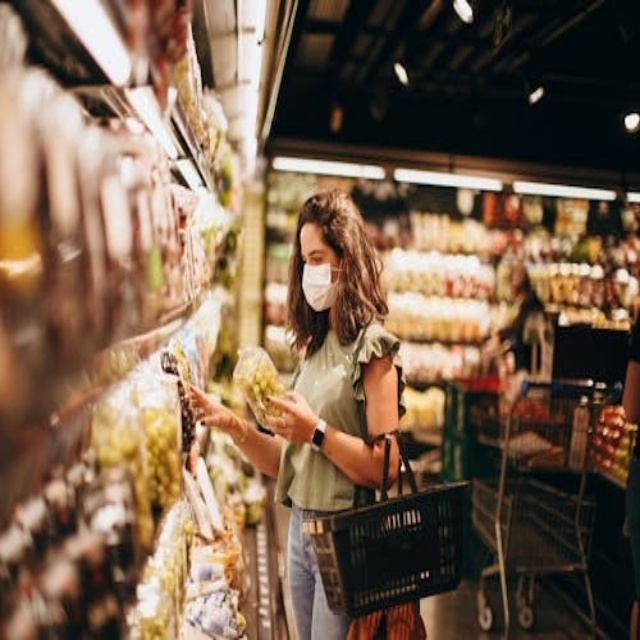Mascara: (301, 261, 343, 311)
Sin_gafas: (298, 246, 330, 267)
Sin_guantes: (192, 395, 253, 452), (260, 389, 319, 447)
